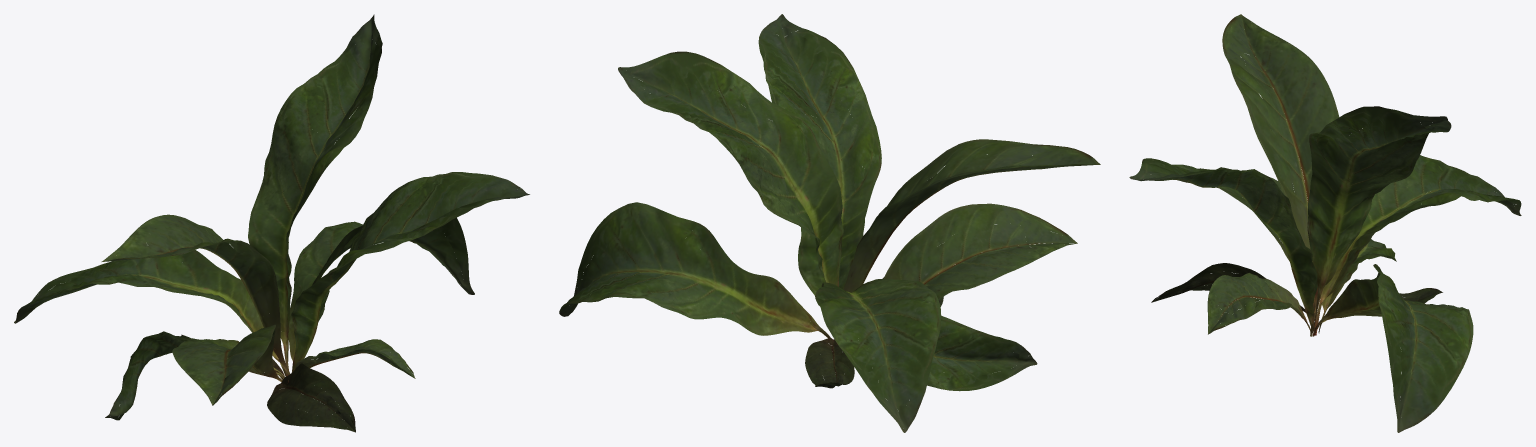
The model's file is anthurium.glb.
The picture shows the model from 3 angles, left to right: view 1: azimuth 30°, elevation 25°; view 2: azimuth 150°, elevation 25°; view 3: azimuth 270°, elevation 25°; orthographic projection.
Parts seen in each view (by area): view 1: anthurium_botany_01_b; view 2: anthurium_botany_01_b; view 3: anthurium_botany_01_b.
Boxes of the visible parts, bbox=[...] form: anthurium_botany_01_b: bbox=[14, 14, 529, 432]; anthurium_botany_01_b: bbox=[559, 14, 1100, 432]; anthurium_botany_01_b: bbox=[1129, 14, 1521, 432].
Size of the model in its own units: 0.7567 by 0.4718 by 0.5716.
Materials: 1 (1 with a texture image).
